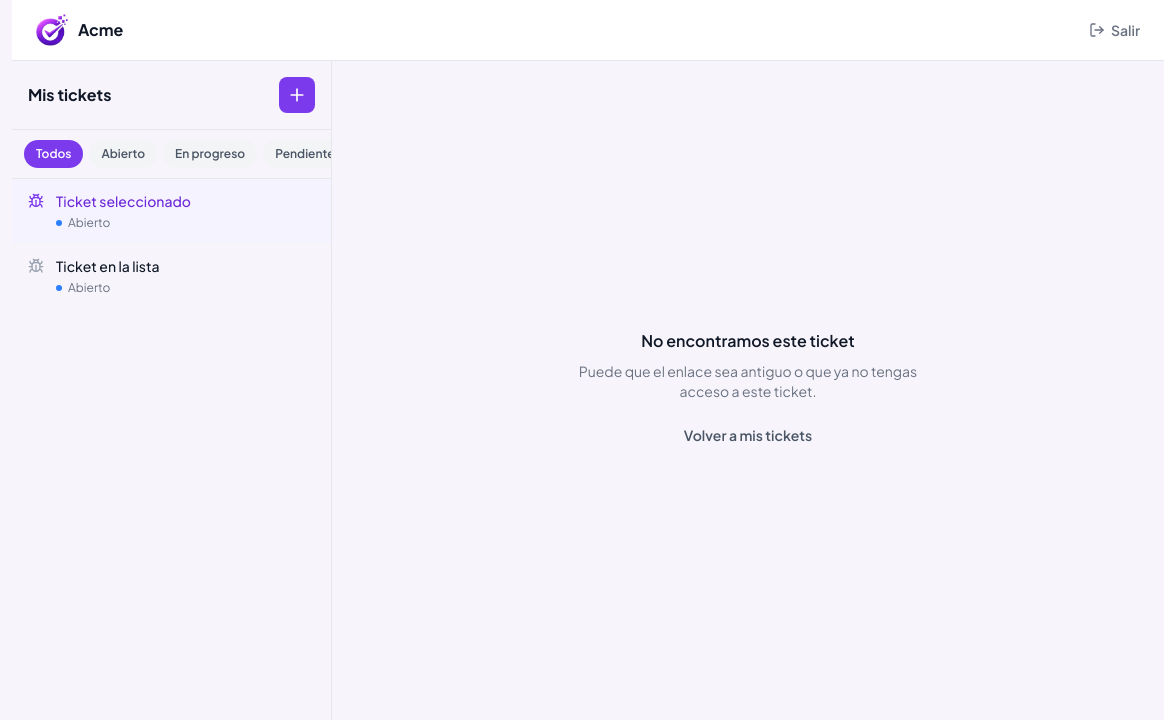
Test case: PortalInboxScreen detalle del ticket › un 404 muestra que el ticket no existe, sin Reintentar
expect the text "No encontramos este ticket" is shown: met, box [641,330,855,350]
Click the button "Volver a mis tickets" at coordinates (748, 434), box [668,416,828,452]
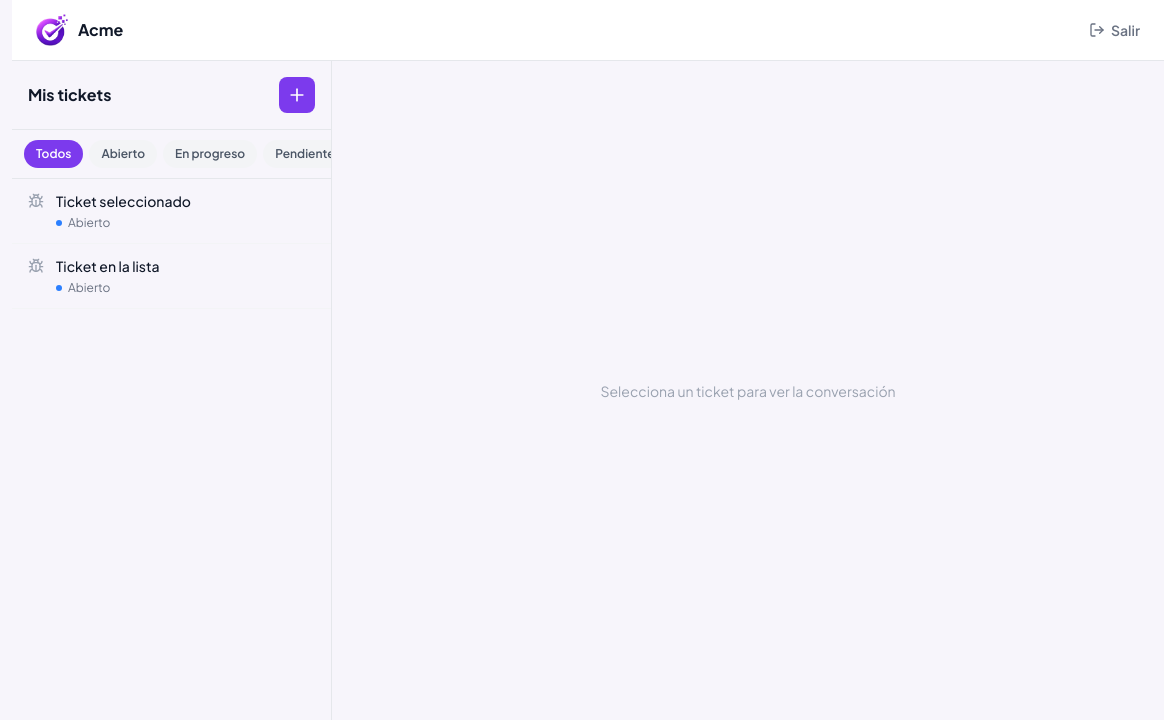
expect the text "No encontramos este ticket" is gone: met
